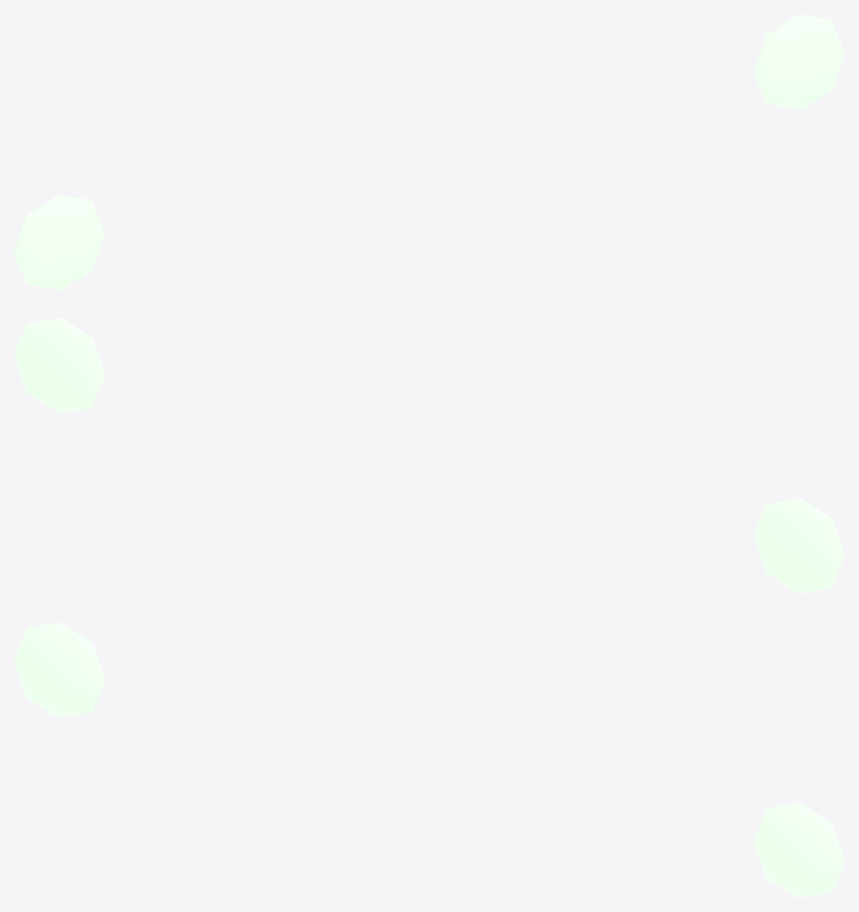
3 renders of one model, top to bottom at view 1: azimuth 30°, elevation 25°; view 2: azimuth 150°, elevation 25°; view 3: azimuth 330°, elevation 25°, orthographic.
Parts seen in each view (by area): view 1: light.003; view 2: light.003; view 3: light.003.
Part boxes in pixels (x1=…): light.003: x1=14, y1=14, x2=844, y2=289; light.003: x1=14, y1=318, x2=844, y2=593; light.003: x1=14, y1=622, x2=844, y2=897.
Bounding box in the file's own units: 0.5 × 0.0549 × 0.0115.
